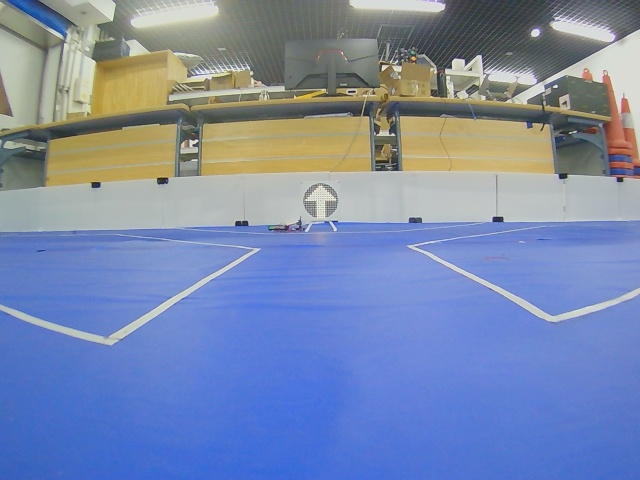straight_yellow: (304, 183, 337, 218)
